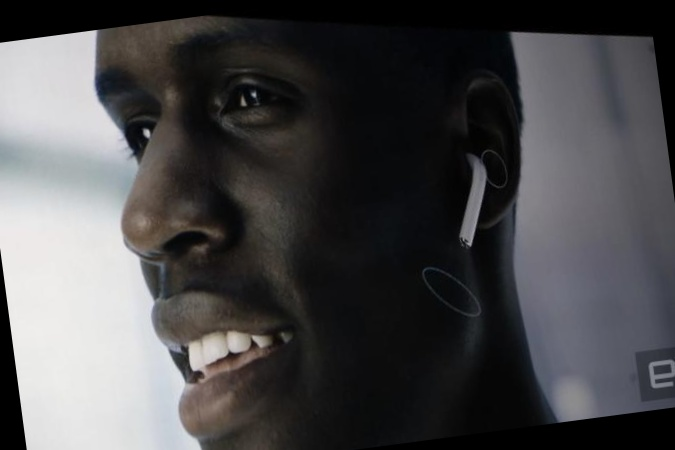earphone: (438, 64, 535, 249)
